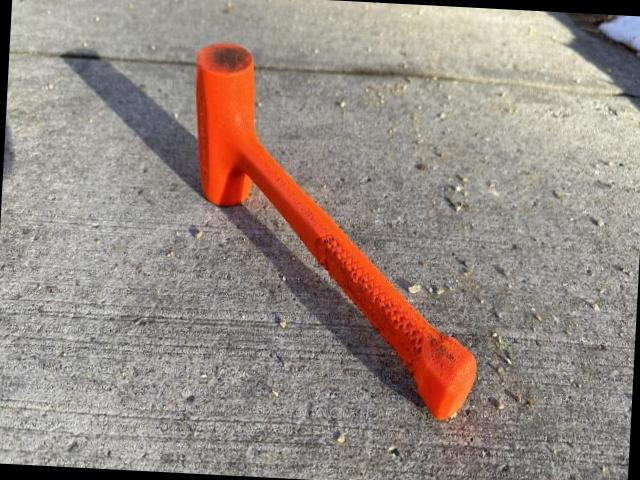hammer: (178, 44, 492, 424)
